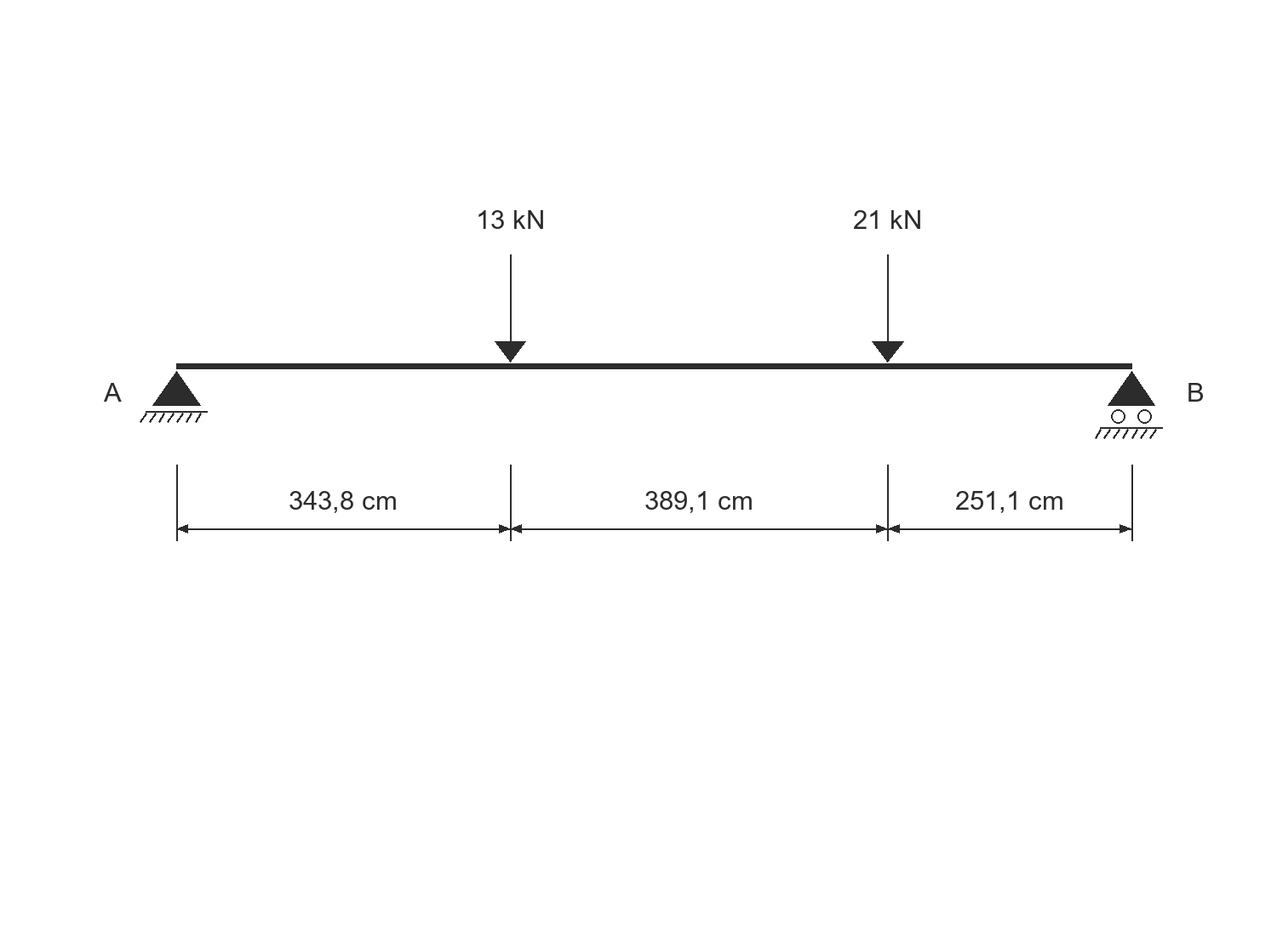pin_support: (140, 371, 208, 423)
point_load: (872, 254, 904, 362), (495, 254, 526, 362)
roller_support: (1095, 371, 1163, 439)
